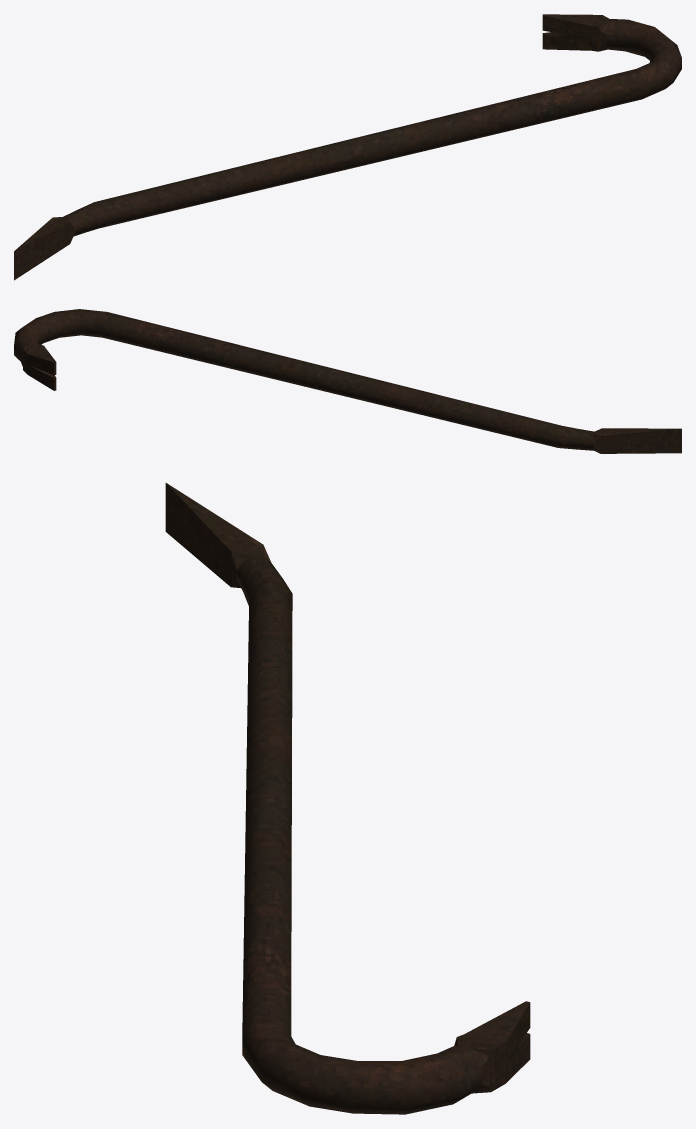
The model's file is rusty_crowbar_mx_1.glb.
3 renders of one model, top to bottom at view 1: azimuth 30°, elevation 25°; view 2: azimuth 150°, elevation 25°; view 3: azimuth 270°, elevation 25°, orthographic. The views are drawn at different scales.
Visible parts, largest first — view 1: rusty_crowbar_mx_1; view 2: rusty_crowbar_mx_1; view 3: rusty_crowbar_mx_1.
Boxes of the visible parts, x1,y1,x2,y2 form: rusty_crowbar_mx_1: (14,14,681,280); rusty_crowbar_mx_1: (14,309,681,453); rusty_crowbar_mx_1: (165,483,530,1114).
Bounding box in the file's own units: 1 × 0.045 × 0.2615.
1 material, 1 textured.
